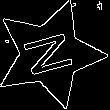N_E: (19, 28, 81, 81)
